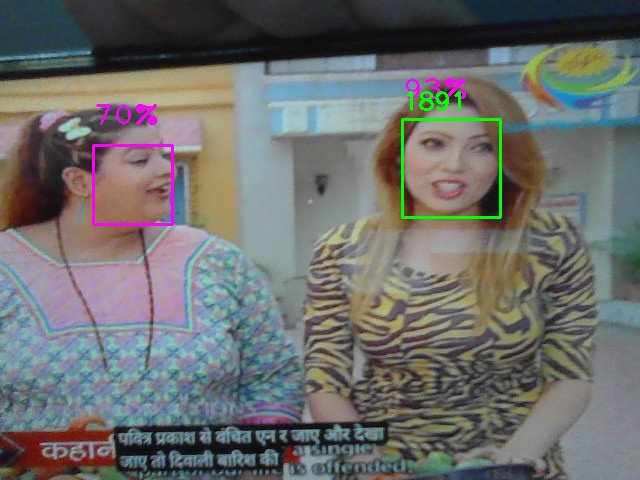fake: (402, 119, 501, 218)
